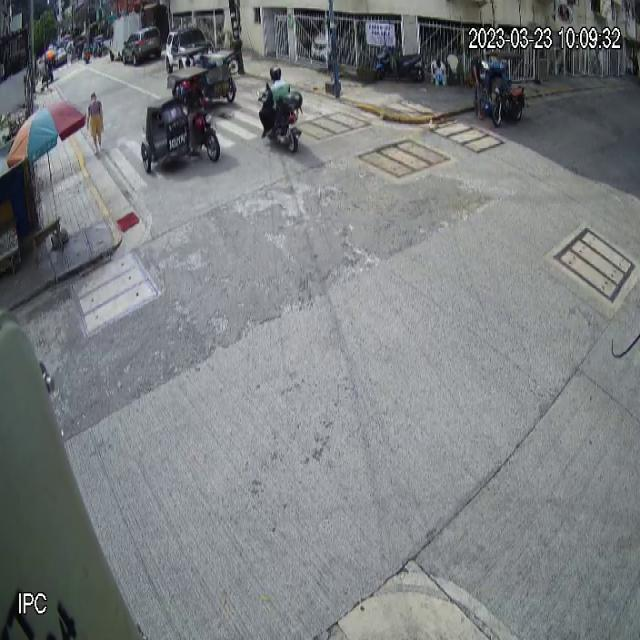Tricycle: (140, 66, 220, 173), (474, 51, 526, 127)
